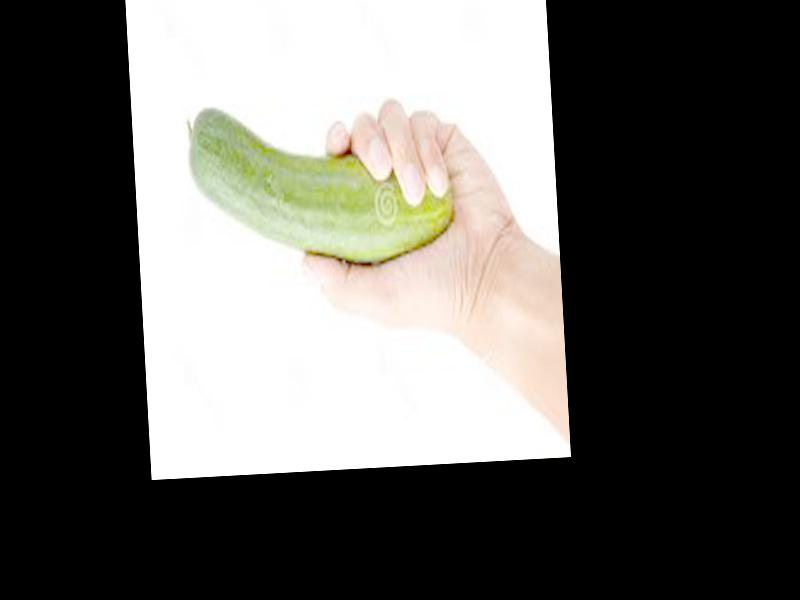Cucumber: (184, 94, 455, 268)
